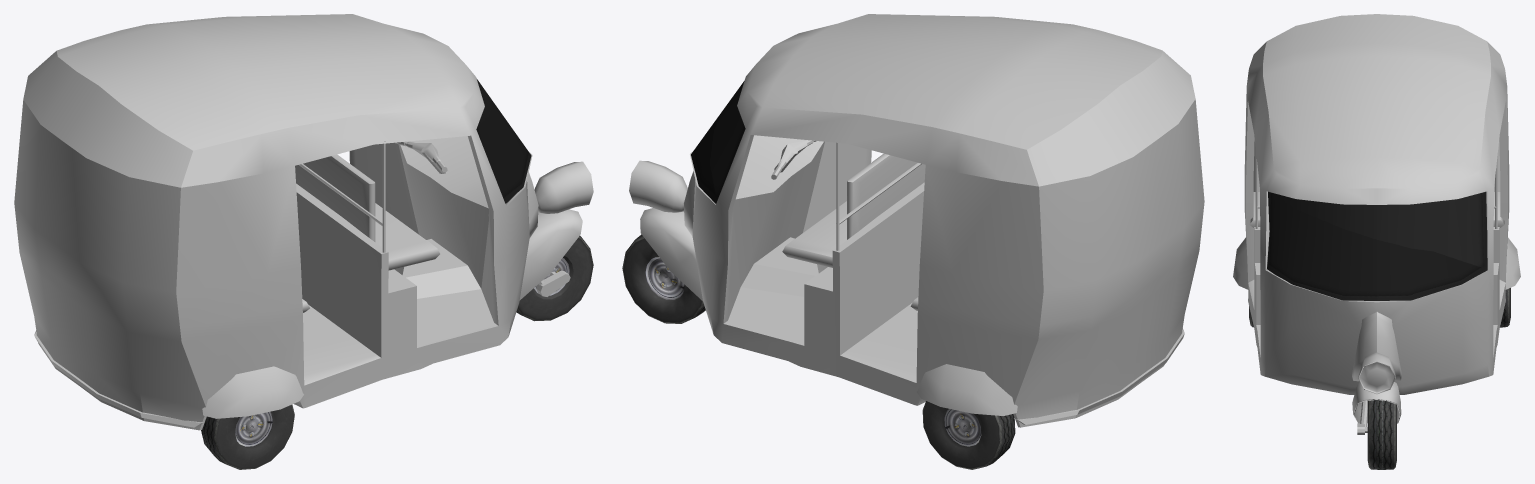
File: Auto-fbx.fbx
The picture shows the model from 3 angles, left to right: view 1: azimuth 30°, elevation 25°; view 2: azimuth 150°, elevation 25°; view 3: azimuth 270°, elevation 25°; orthographic projection. The views are drawn at different scales.
Visible parts, largest first — view 1: polySurface98, polySurface97, polySurface38; view 2: polySurface98, polySurface37, polySurface38; view 3: polySurface98, polySurface38.
Part boxes in pixels (x1,y1,x2,y2): polySurface98: (14, 14, 593, 430); polySurface97: (201, 404, 294, 469); polySurface38: (516, 236, 593, 321); polySurface98: (629, 14, 1204, 427); polySurface37: (922, 401, 1015, 469); polySurface38: (622, 234, 705, 323); polySurface98: (1233, 14, 1520, 434); polySurface38: (1367, 400, 1396, 469).
Bounding box in the file's own units: 32.26 × 20.36 × 18.71.
